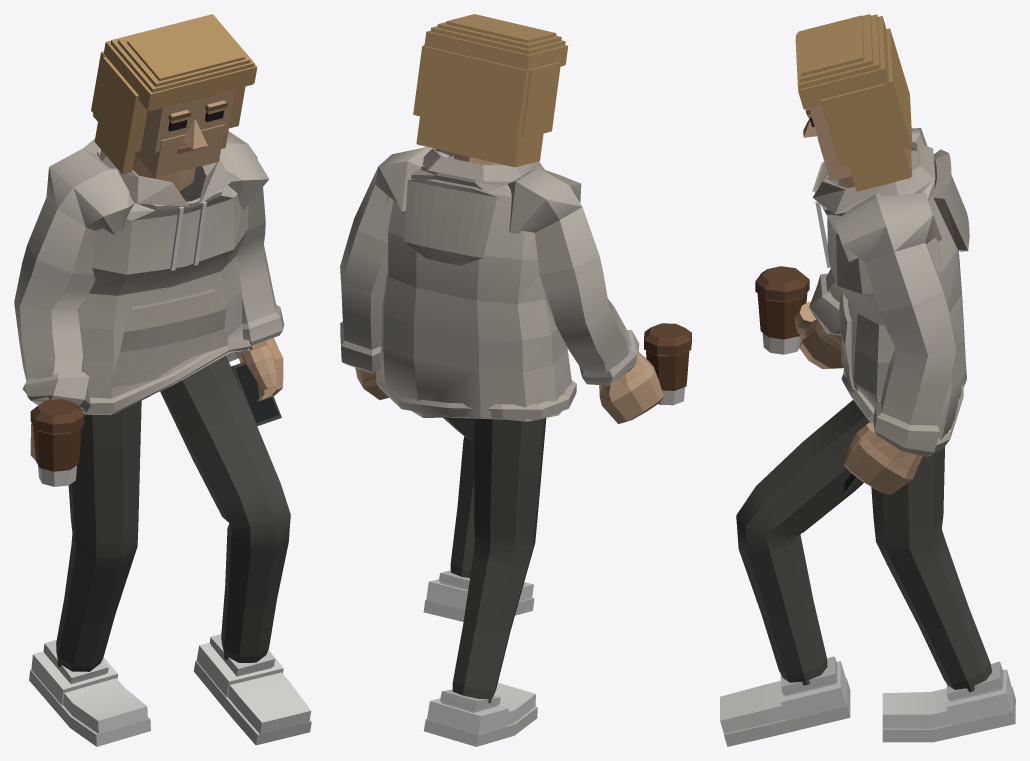
File: student-in-a-hoodie-7c8223__walk7.glb
3 views of the same model, side by side, from view 1: azimuth 30°, elevation 25°; view 2: azimuth 150°, elevation 25°; view 3: azimuth 270°, elevation 25° (orthographic). The views are drawn at different scales.
Visible parts, largest first — view 1: student-in-a-hoodie-7c8223__walk7; view 2: student-in-a-hoodie-7c8223__walk7; view 3: student-in-a-hoodie-7c8223__walk7.
Part boxes in pixels (x1,y1,x2,y2): student-in-a-hoodie-7c8223__walk7: (14,14,311,746); student-in-a-hoodie-7c8223__walk7: (340,14,691,746); student-in-a-hoodie-7c8223__walk7: (720,14,1015,746).
Bounding box in the file's own units: 0.7969 × 1.74 × 0.6525.
